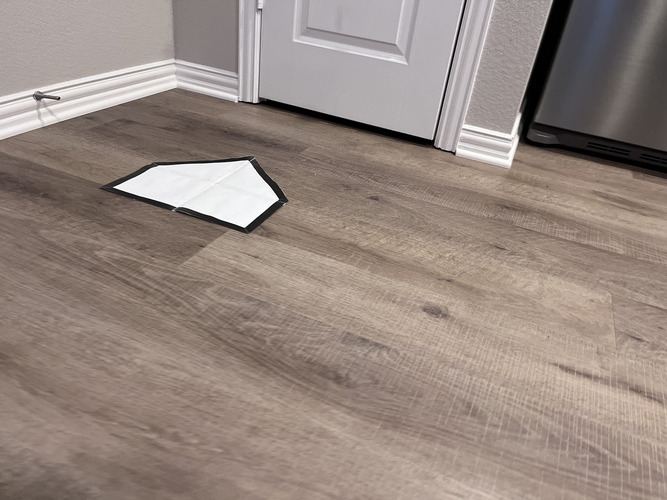homeplate: (97, 156, 289, 233)
